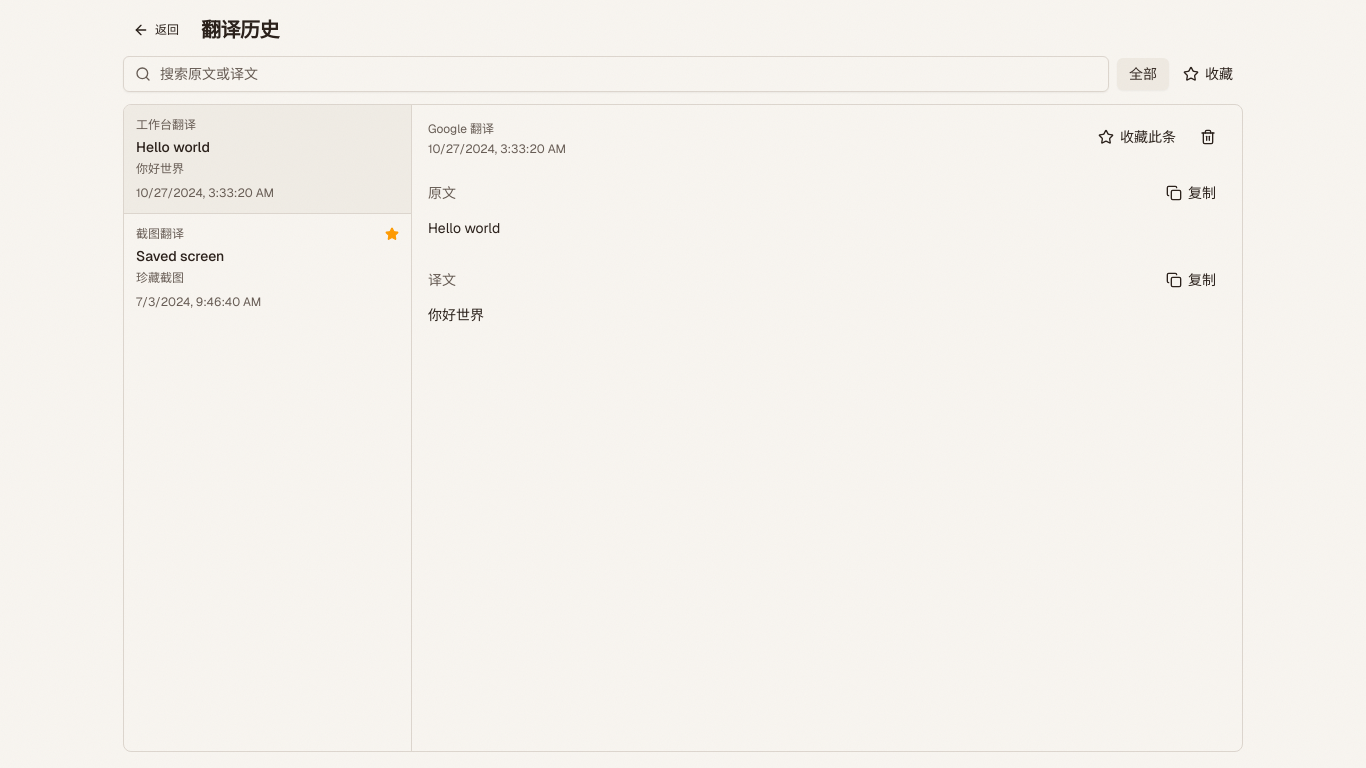
translation history › removes a record only after deletion succeeds
Step 1. Click the button named "删除记录" → (1208, 137), box [1190,121,1226,153]
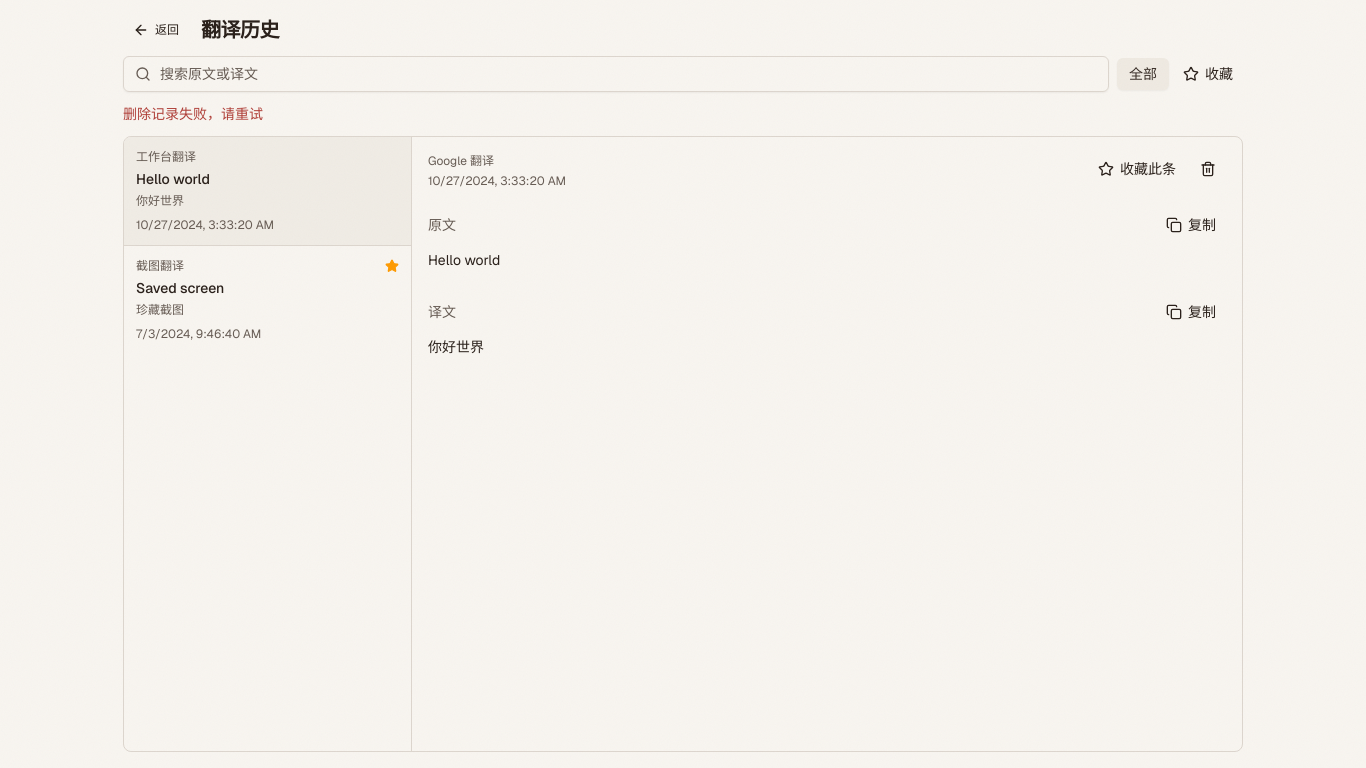
Check: the message shows "删除记录失败", box [123,105,263,123]
Step 2. Click the button named "删除记录" → (1208, 169), box [1190,153,1226,185]
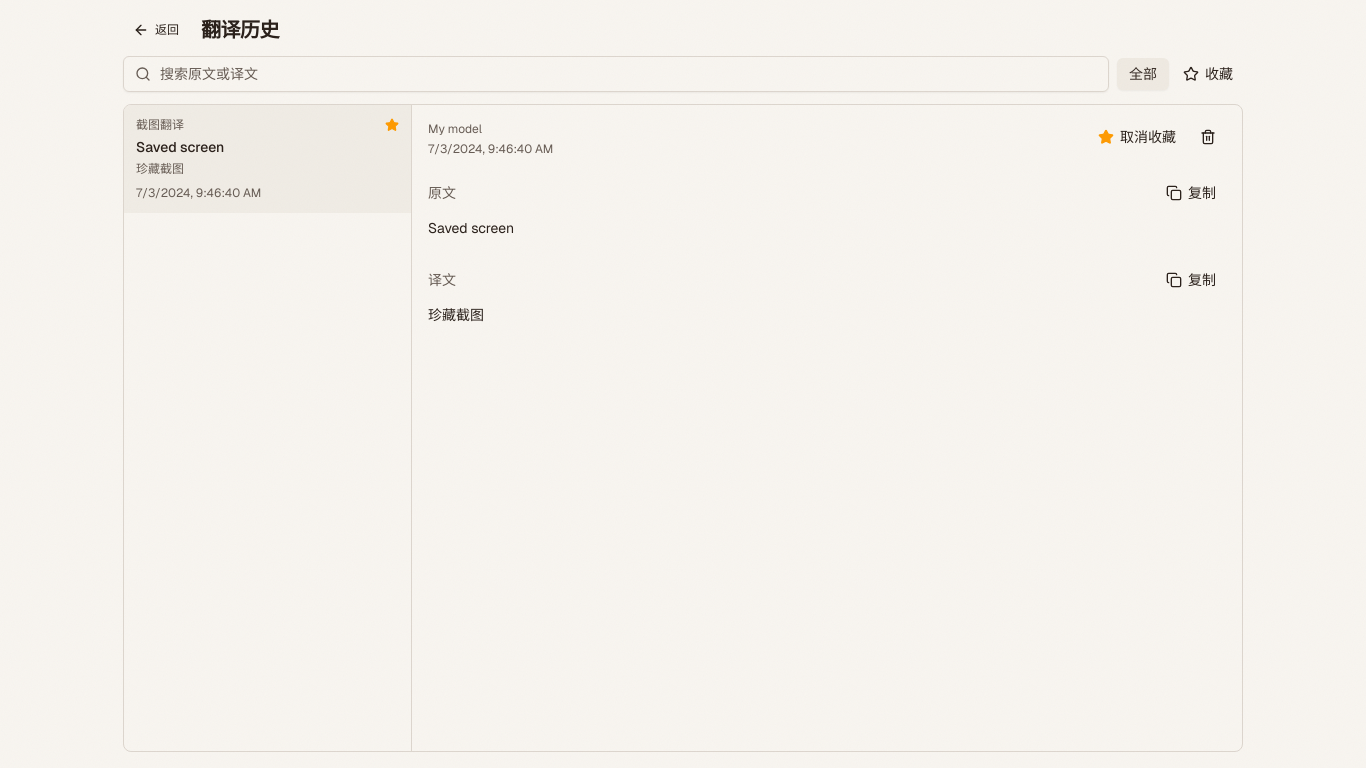
Check: the button "Hello world" is gone
Check: the button "取消收藏" is shown, box [1088,121,1186,153]
